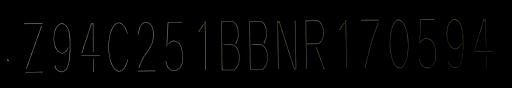letter: (354, 12, 382, 72), (214, 16, 242, 76), (20, 17, 48, 77), (104, 19, 134, 75), (470, 13, 498, 71), (301, 16, 329, 72), (271, 17, 299, 73), (48, 20, 76, 76), (244, 15, 270, 73), (161, 17, 187, 75), (441, 15, 467, 71), (133, 18, 159, 74), (386, 15, 412, 69), (77, 19, 103, 73), (416, 13, 440, 71), (192, 16, 212, 76), (334, 16, 352, 72)
